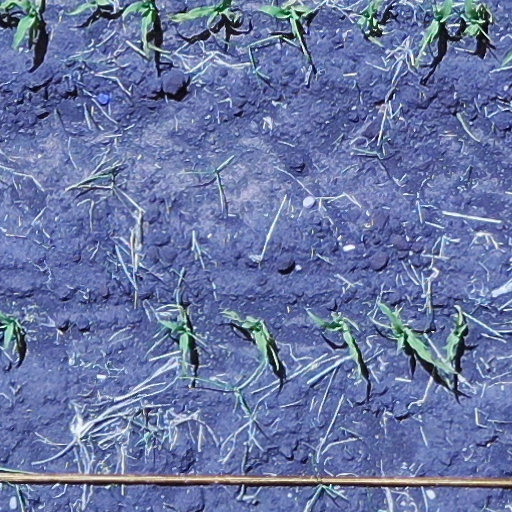planta: (378, 301, 454, 374), (222, 309, 274, 368), (258, 4, 314, 53), (310, 312, 363, 363), (121, 1, 158, 56), (160, 309, 194, 356), (441, 309, 467, 365)
